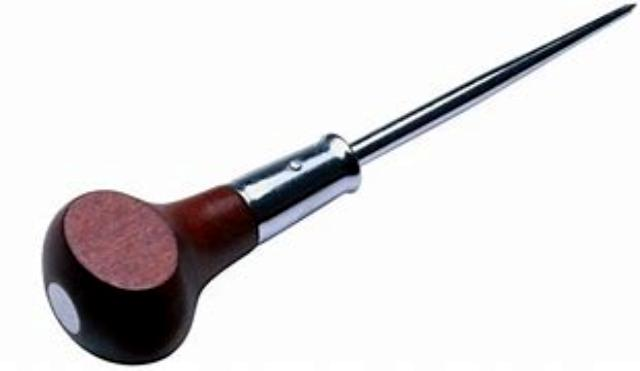ice pick: (44, 6, 640, 371)
